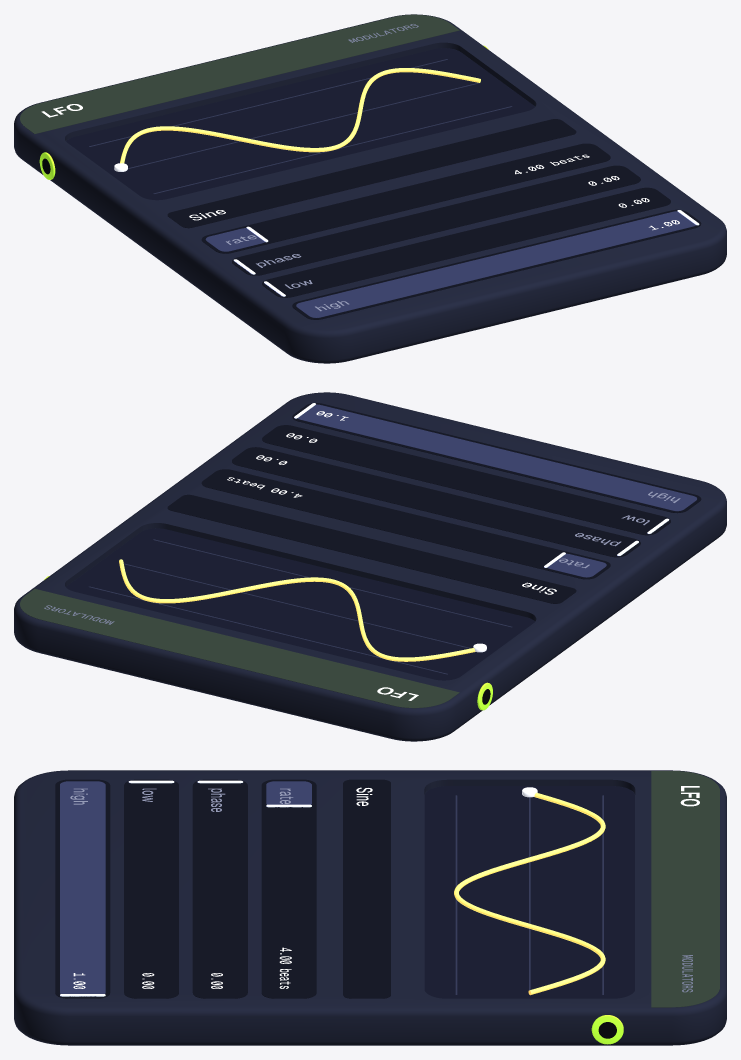
File: node_lfo.glb
3 views of the same model, one above another, from view 1: azimuth 30°, elevation 25°; view 2: azimuth 150°, elevation 25°; view 3: azimuth 270°, elevation 25° (orthographic). The views are drawn at different scales.
Visible parts, largest first — view 1: card.001, well_0, title_strip.001, s_low_well, s_phase_well, s_rate_well, d_shape, s_high_fill, s_high_well, wave, s_rate_fill; view 2: card.001, well_0, title_strip.001, s_low_well, s_phase_well, s_rate_well, d_shape, s_high_fill, s_high_well, wave, s_rate_fill; view 3: card.001, well_0, title_strip.001, s_phase_well, s_low_well, s_rate_well, d_shape, s_high_fill, wave, s_high_well, s_rate_fill, grid_2 (+1 smaller).
Part boxes in pixels (bbox=[...]): card.001: bbox=[14, 14, 726, 363]; well_0: bbox=[66, 48, 534, 200]; title_strip.001: bbox=[20, 14, 459, 133]; s_low_well: bbox=[262, 187, 670, 297]; s_phase_well: bbox=[232, 165, 640, 275]; s_rate_well: bbox=[201, 143, 610, 253]; d_shape: bbox=[167, 119, 576, 228]; s_high_fill: bbox=[296, 211, 695, 317]; s_high_well: bbox=[292, 209, 701, 319]; wave: bbox=[120, 68, 480, 163]; s_rate_fill: bbox=[205, 228, 264, 251]; card.001: bbox=[14, 392, 726, 741]; well_0: bbox=[66, 528, 534, 680]; title_strip.001: bbox=[20, 589, 459, 708]; s_low_well: bbox=[262, 425, 670, 535]; s_phase_well: bbox=[232, 447, 640, 557]; s_rate_well: bbox=[201, 469, 610, 579]; d_shape: bbox=[167, 494, 576, 603]; s_high_fill: bbox=[297, 404, 696, 511]; s_high_well: bbox=[292, 403, 701, 513]; wave: bbox=[119, 559, 475, 661]; s_rate_fill: bbox=[547, 553, 606, 577]; card.001: bbox=[14, 770, 726, 1045]; well_0: bbox=[424, 786, 634, 998]; title_strip.001: bbox=[651, 771, 719, 1007]; s_phase_well: bbox=[192, 779, 247, 998]; s_low_well: bbox=[124, 779, 178, 998]; s_rate_well: bbox=[261, 779, 316, 998]; d_shape: bbox=[343, 779, 390, 998]; s_high_fill: bbox=[60, 781, 105, 996]; wave: bbox=[454, 792, 605, 995]; s_high_well: bbox=[55, 779, 110, 998]; s_rate_fill: bbox=[266, 781, 311, 807]; grid_2: bbox=[455, 795, 457, 994].
Bounding box in the file's own units: 0.2527 × 0.0185 × 0.311.
